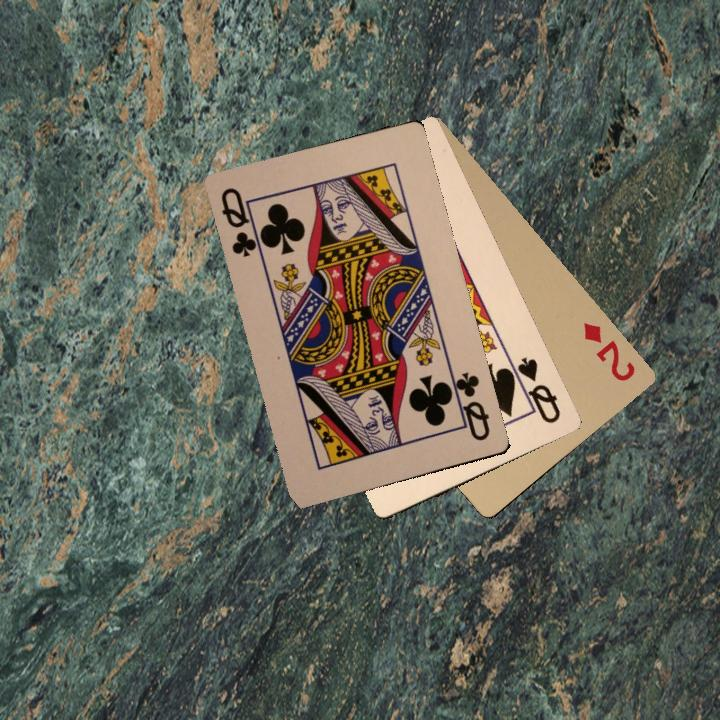2d: (579, 318, 638, 384)
Qc: (217, 183, 266, 260), (446, 368, 493, 444)
Qs: (505, 352, 563, 426)
